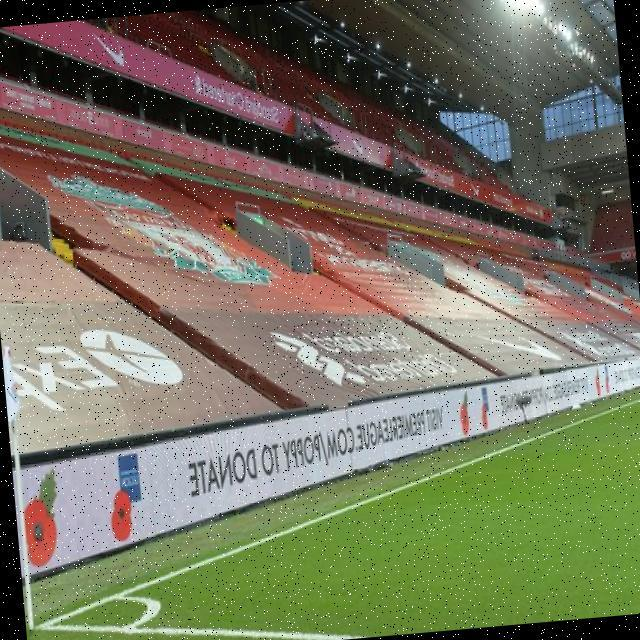Nike: (91, 29, 124, 69), (351, 136, 364, 156), (470, 182, 479, 197)
Standard Chartered: (270, 309, 457, 394), (194, 65, 279, 130), (423, 160, 455, 190)
